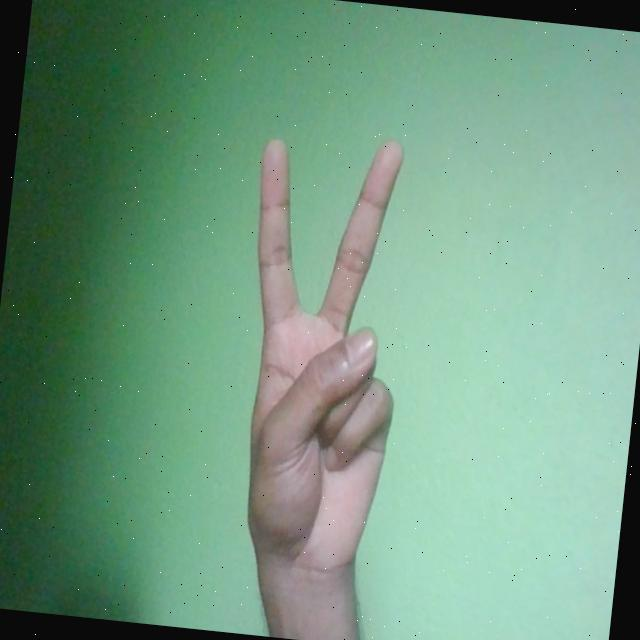Fist: (216, 125, 422, 594)
